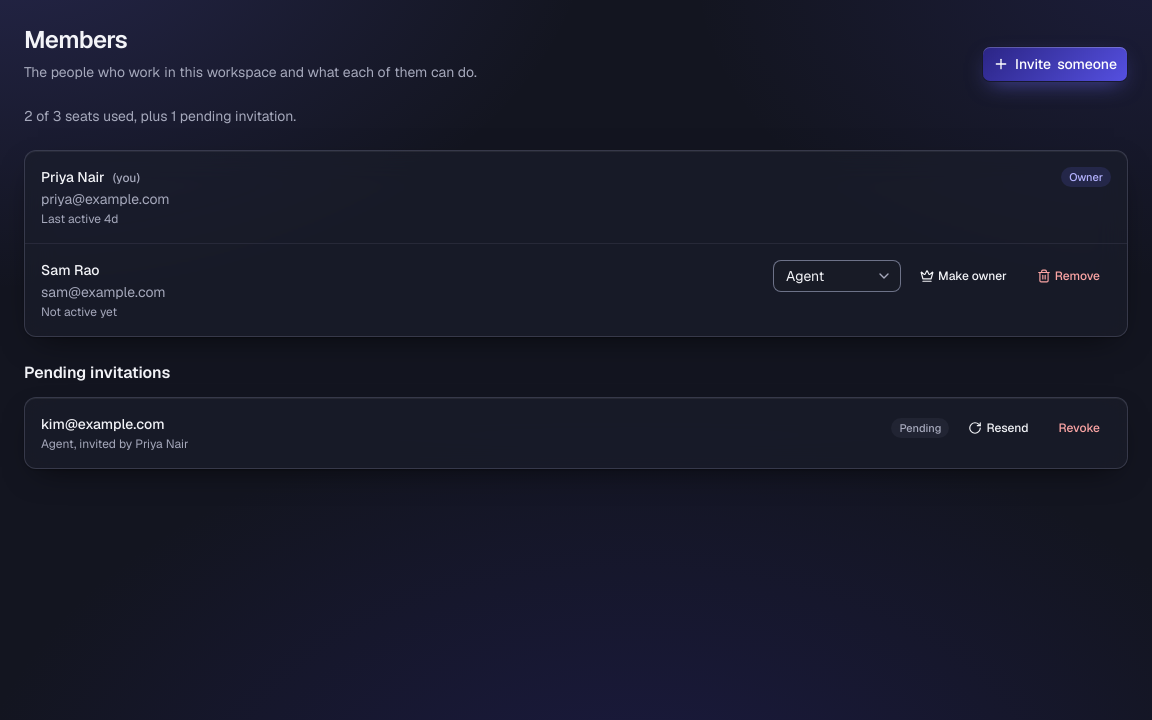
Test case: MembersPage (GR-19) › shows a refusal next to the email field
The width and height of the screenshot is (1152, 720).
Click the button "Invite someone": (1055,64) [982,46,1128,82]
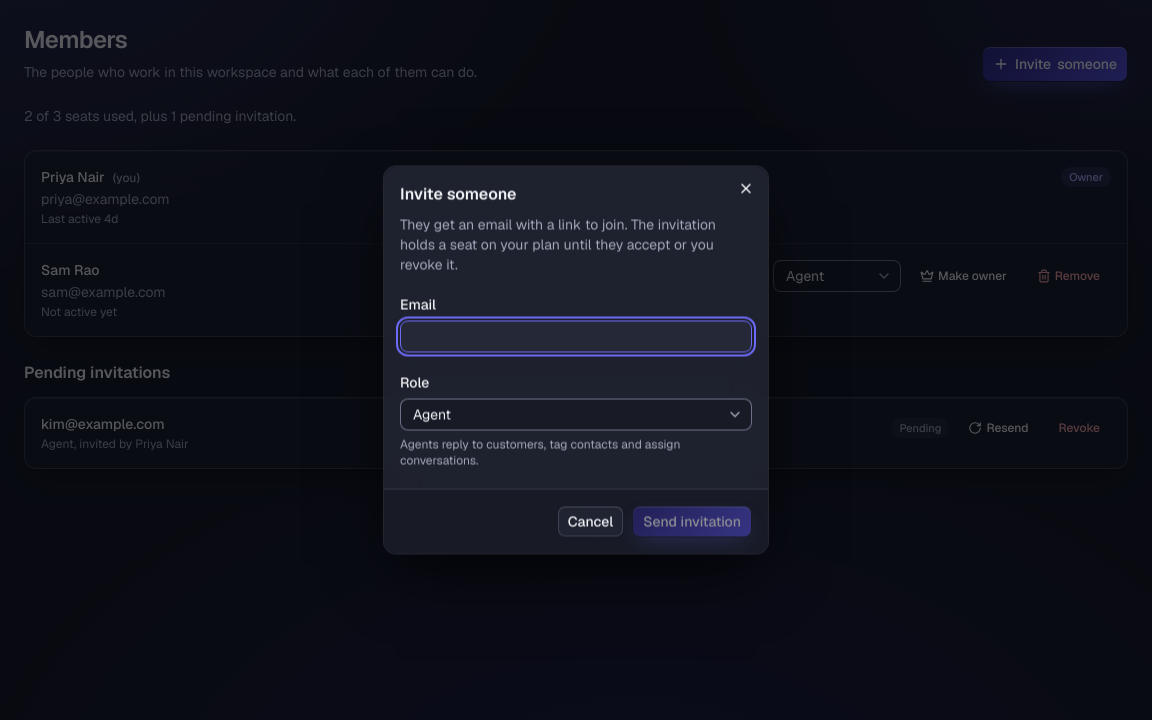
In the field labelled "Email": (576,336) [400,320,752,352], type "sam@example.com"
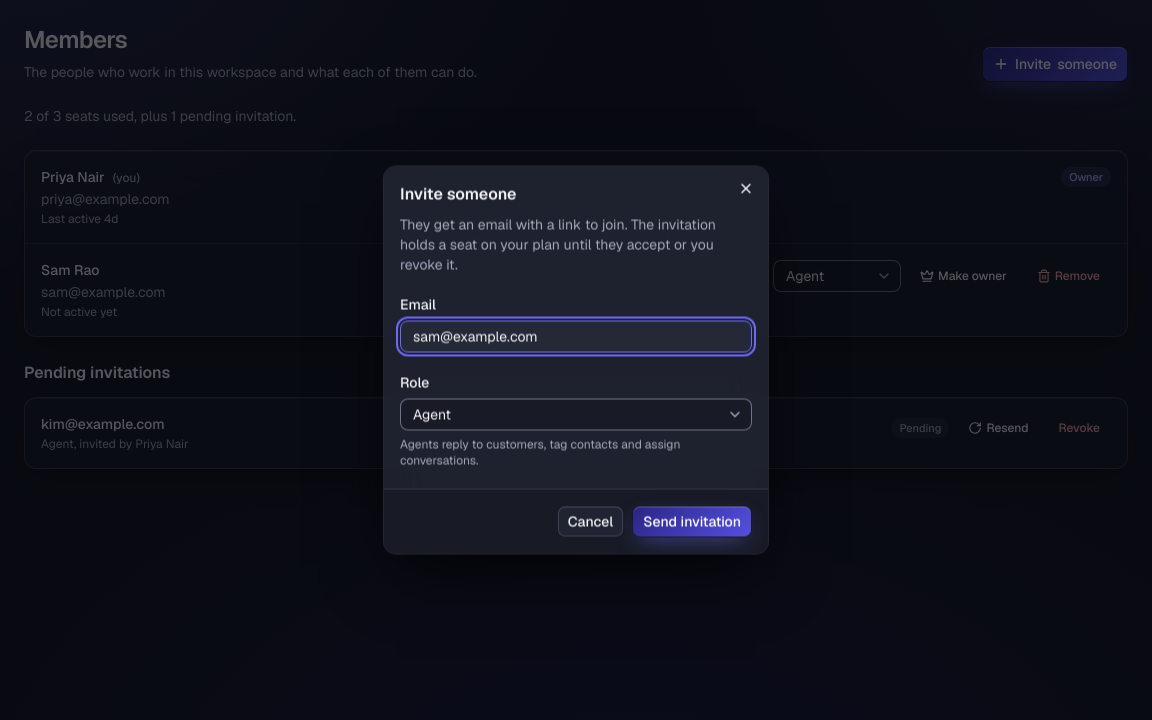
Click the button "Send invitation": (692,522) [632,506,752,538]
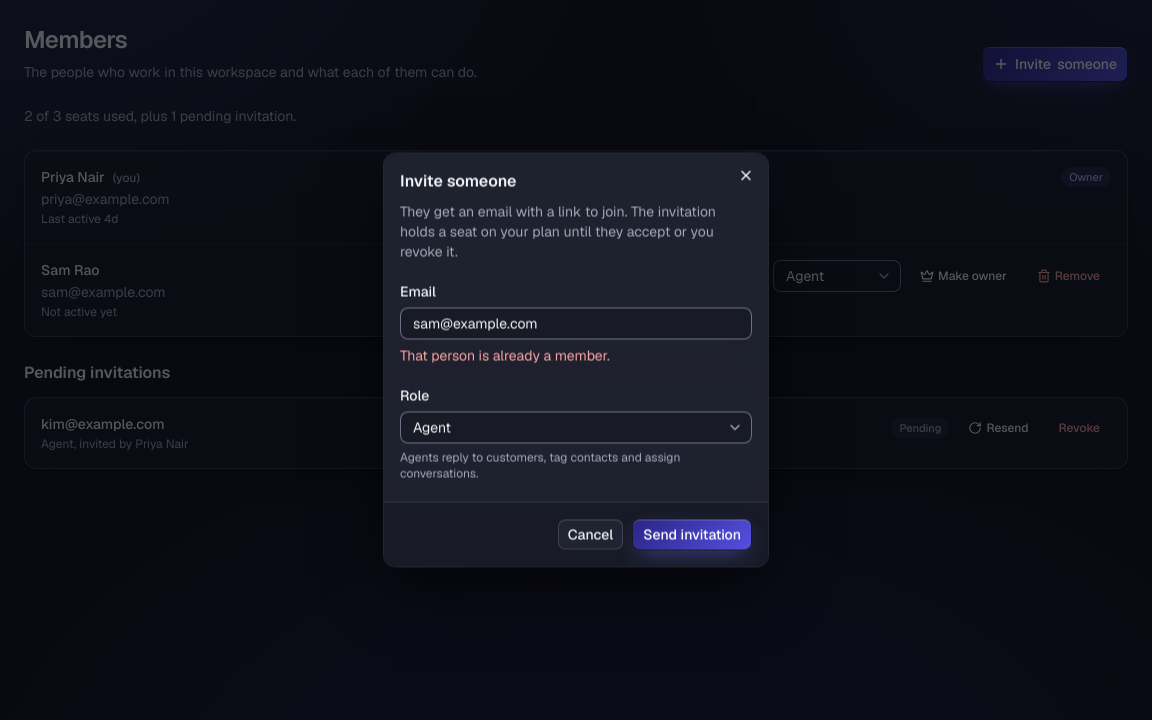
Now the text "That person is already a member." is shown, box [400,346,610,364]
